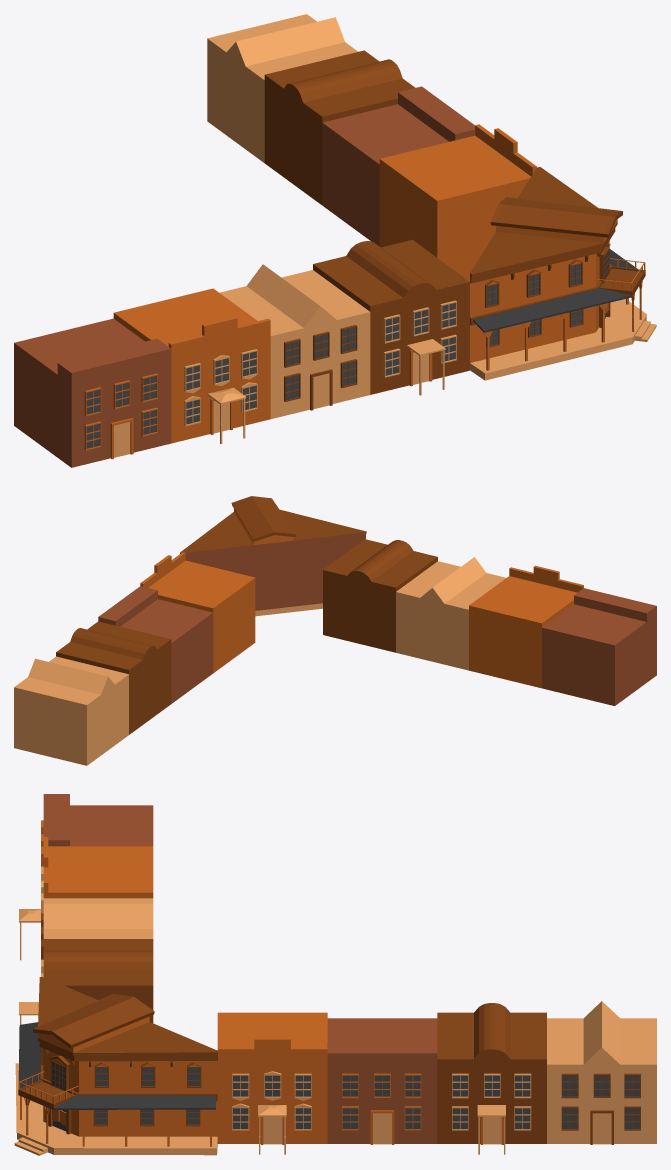
Rendered from Saloon angle.glb.
The picture shows the model from 3 angles, top to bottom: view 1: azimuth 30°, elevation 25°; view 2: azimuth 150°, elevation 25°; view 3: azimuth 270°, elevation 25°; orthographic projection. The views are drawn at different scales.
Parts seen in each view (by area): view 1: Maison 4_Structure, Saloon_Maison, Maison 3_Structure.001, Maison 1_Structure, Maison 3_Structure, Maison 1_Structure.001, Maison 2_Structure, Maison 4_Structure.001, Maison 2_Structure.001, Saloon_Maison socle, Saloon_Toit RDC, Maison 3_Fenetre array (+9 smaller); view 2: Saloon_Maison, Maison 4_Structure, Maison 2_Structure.001, Maison 3_Structure, Maison 1_Structure, Maison 2_Structure, Maison 3_Structure.001, Maison 1_Structure.001, Maison 4_Structure.001, Saloon_Maison socle; view 3: Saloon_Maison, Maison 1_Structure.001, Maison 3_Structure.001, Maison 2_Structure.001, Maison 4_Structure.001, Maison 1_Structure, Maison 3_Structure, Saloon_Maison socle, Maison 4_Structure, Maison 2_Structure, Saloon_Toit RDC, Maison 3_Fenetre array.001 (+12 smaller).
Part boxes in pixels (x1,y1,x2,y2): Maison 4_Structure: [14, 318, 171, 467]; Saloon_Maison: [470, 167, 622, 362]; Maison 3_Structure.001: [379, 124, 536, 281]; Maison 1_Structure: [313, 240, 469, 394]; Maison 3_Structure: [113, 288, 270, 443]; Maison 1_Structure.001: [264, 50, 415, 204]; Maison 2_Structure: [219, 264, 370, 418]; Maison 4_Structure.001: [322, 86, 475, 245]; Maison 2_Structure.001: [207, 14, 357, 162]; Saloon_Maison socle: [470, 299, 656, 380]; Saloon_Toit RDC: [473, 249, 637, 332]; Maison 3_Fenetre array: [184, 349, 257, 426]; Saloon_Maison: [180, 496, 366, 610]; Maison 4_Structure: [542, 588, 656, 705]; Maison 2_Structure.001: [14, 656, 128, 765]; Maison 3_Structure: [469, 565, 583, 688]; Maison 1_Structure: [323, 539, 437, 652]; Maison 2_Structure: [396, 557, 505, 670]; Maison 3_Structure.001: [140, 552, 255, 672]; Maison 1_Structure.001: [56, 621, 171, 734]; Maison 4_Structure.001: [98, 586, 213, 703]; Saloon_Maison socle: [255, 603, 322, 616]; Saloon_Maison: [33, 977, 217, 1136]; Maison 1_Structure.001: [437, 1003, 546, 1143]; Maison 3_Structure.001: [217, 1012, 327, 1143]; Maison 2_Structure.001: [547, 1001, 656, 1143]; Maison 4_Structure.001: [327, 1018, 437, 1143]; Maison 1_Structure: [43, 939, 153, 1022]; Maison 3_Structure: [43, 836, 153, 898]; Saloon_Maison socle: [14, 1063, 217, 1155]; Maison 4_Structure: [43, 794, 153, 846]; Maison 2_Structure: [43, 898, 153, 938]; Saloon_Toit RDC: [18, 1022, 215, 1109]; Maison 3_Fenetre array.001: [232, 1073, 311, 1130].
Bounding box in the file's own units: 38.09 × 7.17 × 38.08.
Materials: 4 (1 with a texture image).
